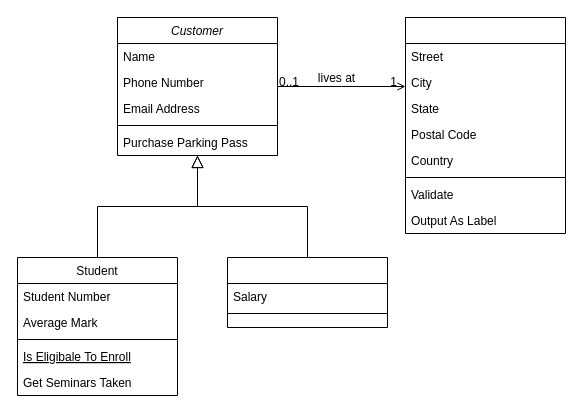
Some shapes in this 583 by 416 pixel diagram are drawn without their labels. Each missing label, with the box of its shape:
Address: (404, 16, 566, 234)
Professor: (226, 256, 388, 328)
